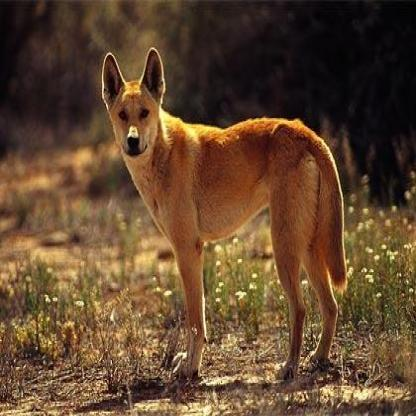dingo: (99, 39, 348, 383)
